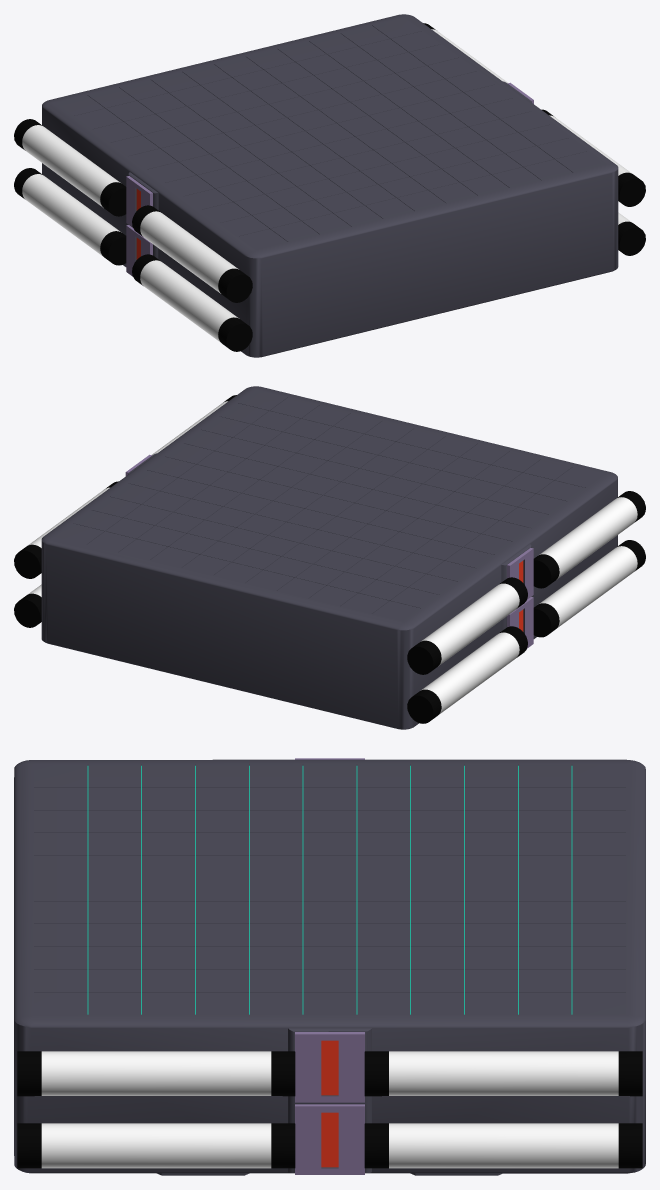
File: PlataformaModuloCentro MarcoCanton.fbx
The picture shows the model from 3 angles, top to bottom: view 1: azimuth 30°, elevation 25°; view 2: azimuth 150°, elevation 25°; view 3: azimuth 270°, elevation 25°; orthographic projection. The views are drawn at different scales.
Parts seen in each view (by area): view 1: Modulo centro; view 2: Modulo centro; view 3: Modulo centro.
Boxes of the visible parts, <box> form: Modulo centro: <box>14,14,645,357</box>; Modulo centro: <box>14,386,645,729</box>; Modulo centro: <box>14,758,645,1175</box>.
Bounding box in the file's own units: 226 × 72.27 × 200.
Materials: 1 (1 with a texture image).
